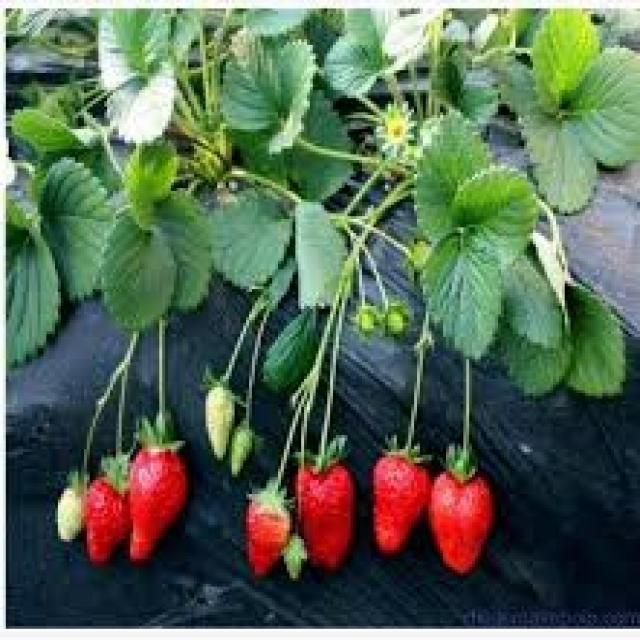strawberry: (431, 462, 496, 571), (370, 451, 429, 555), (297, 453, 358, 534), (128, 443, 189, 518), (86, 474, 130, 566), (245, 493, 292, 551)
